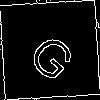G: (24, 24, 85, 85)
